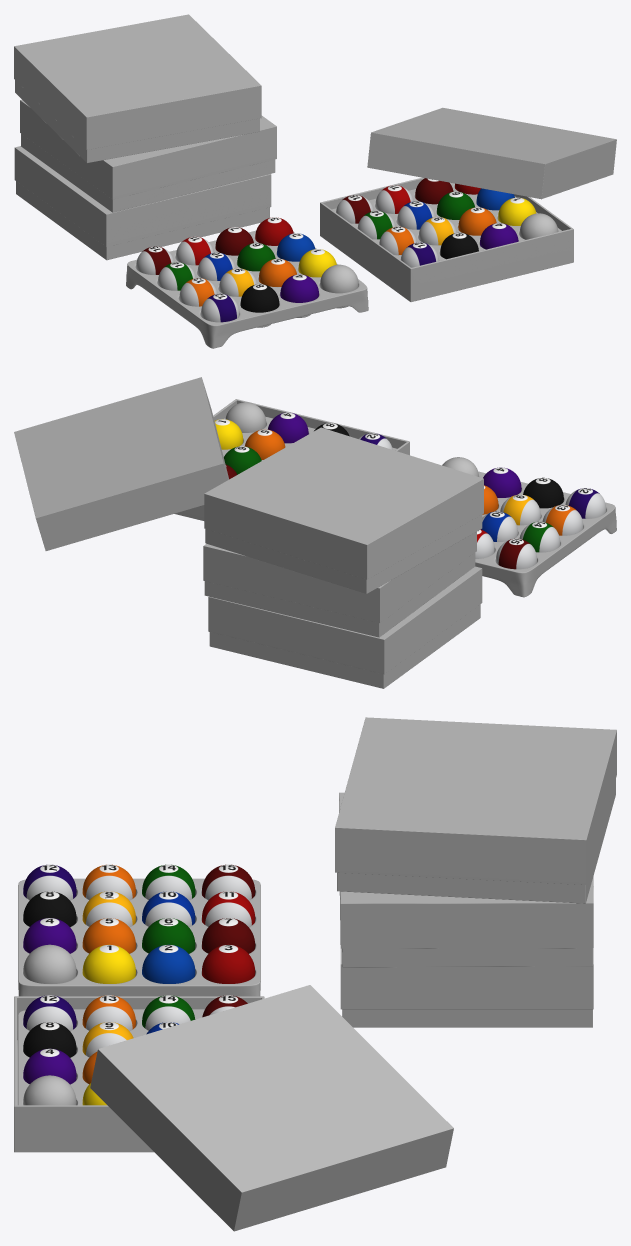
Rendered from poolballs.fbx.
3 views of the same model, one above another, from view 1: azimuth 30°, elevation 25°; view 2: azimuth 150°, elevation 25°; view 3: azimuth 270°, elevation 25° (orthographic). The views are drawn at different scales.
Parts seen in each view (by area): view 1: carton_lid (×4), carton_box (×4), ball_tray (×2), poolball24 (×2), poolball16 (×2), poolball20 (×2), poolball28 (×2), poolball22 (×2), poolball21 (×2), poolball1 (×2), poolball19 (×2), poolball17 (×2) (+7 smaller); view 2: carton_lid (×4), carton_box (×4), ball_tray, poolball20 (×2), poolball26, poolball27, poolball28, poolball24, poolball25, poolball16, poolball21, poolball23 (+4 smaller); view 3: carton_lid (×4), carton_box (×4), ball_tray (×2), poolball16 (×2), poolball20 (×2), poolball25 (×2), poolball28 (×2), poolball24 (×2), poolball27 (×2), poolball21 (×2), poolball1, poolball3 (+7 smaller).
Boxes of the visible parts, x1=… form: carton_lid (×4): x1=14, y1=14, x2=616, y2=246; carton_box (×4): x1=15, y1=80, x2=573, y2=301; ball_tray (×2): x1=126, y1=182, x2=561, y2=348; poolball24 (×2): x1=240, y1=232, x2=478, y2=312; poolball16 (×2): x1=320, y1=213, x2=558, y2=293; poolball20 (×2): x1=280, y1=223, x2=518, y2=302; poolball28 (×2): x1=201, y1=242, x2=439, y2=322; poolball22 (×2): x1=176, y1=185, x2=413, y2=265; poolball21 (×2): x1=219, y1=217, x2=456, y2=296; poolball1 (×2): x1=298, y1=197, x2=536, y2=277; poolball19 (×2): x1=237, y1=191, x2=474, y2=271; poolball17 (×2): x1=259, y1=207, x2=496, y2=286; carton_lid (×4): x1=14, y1=377, x2=483, y2=674; carton_box (×4): x1=174, y1=399, x2=482, y2=688; ball_tray: x1=475, y1=471, x2=616, y2=597; poolball20 (×2): x1=267, y1=412, x2=521, y2=497; poolball26: x1=496, y1=538, x2=536, y2=569; poolball27: x1=519, y1=521, x2=560, y2=552; poolball28: x1=565, y1=488, x2=606, y2=518; poolball24: x1=523, y1=477, x2=563, y2=508; poolball25: x1=542, y1=505, x2=583, y2=535; poolball16: x1=225, y1=402, x2=266, y2=432; poolball21: x1=500, y1=494, x2=540, y2=525; poolball23: x1=481, y1=511, x2=517, y2=541; carton_lid (×4): x1=90, y1=717, x2=616, y2=1231; carton_box (×4): x1=14, y1=779, x2=615, y2=1152; ball_tray (×2): x1=18, y1=878, x2=260, y2=1105; poolball16 (×2): x1=23, y1=944, x2=76, y2=1105; poolball20 (×2): x1=23, y1=918, x2=76, y2=1084; poolball25 (×2): x1=82, y1=864, x2=135, y2=1030; poolball28 (×2): x1=23, y1=864, x2=76, y2=1030; poolball24 (×2): x1=23, y1=891, x2=76, y2=1057; poolball27 (×2): x1=142, y1=864, x2=195, y2=1030; poolball21 (×2): x1=82, y1=891, x2=135, y2=1057; poolball1: x1=82, y1=944, x2=135, y2=983; poolball3: x1=202, y1=944, x2=255, y2=983.
Bounding box in the file's own units: 207 × 56.93 × 161.
